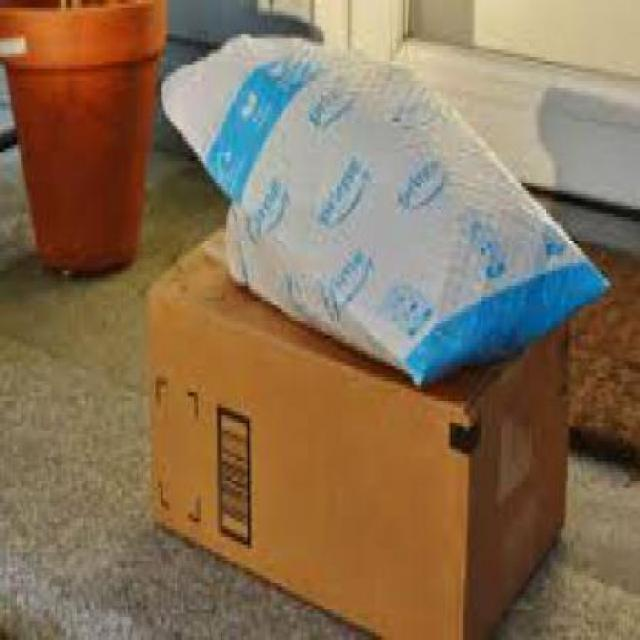box: (141, 229, 563, 640)
